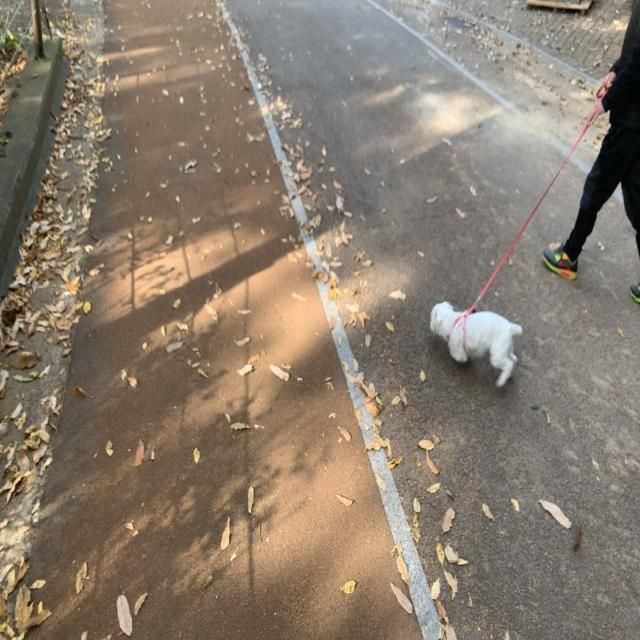Leashed_Dog: (430, 69, 640, 388)
